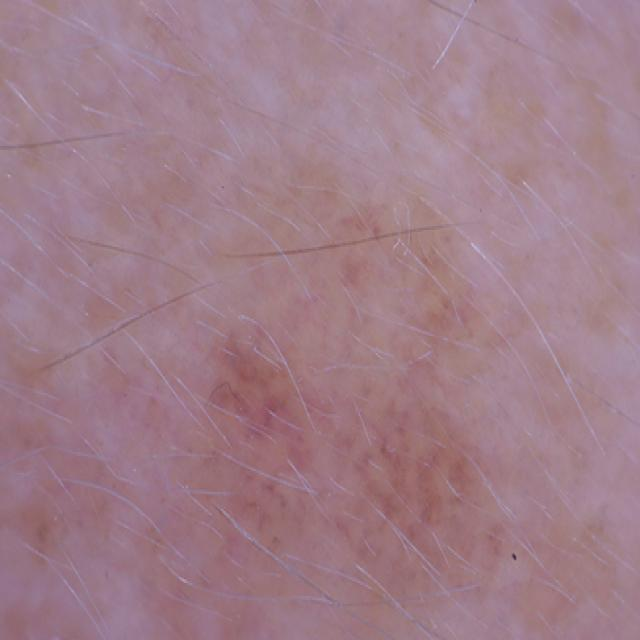Keratosis: (138, 314, 543, 628), (310, 188, 586, 309)
